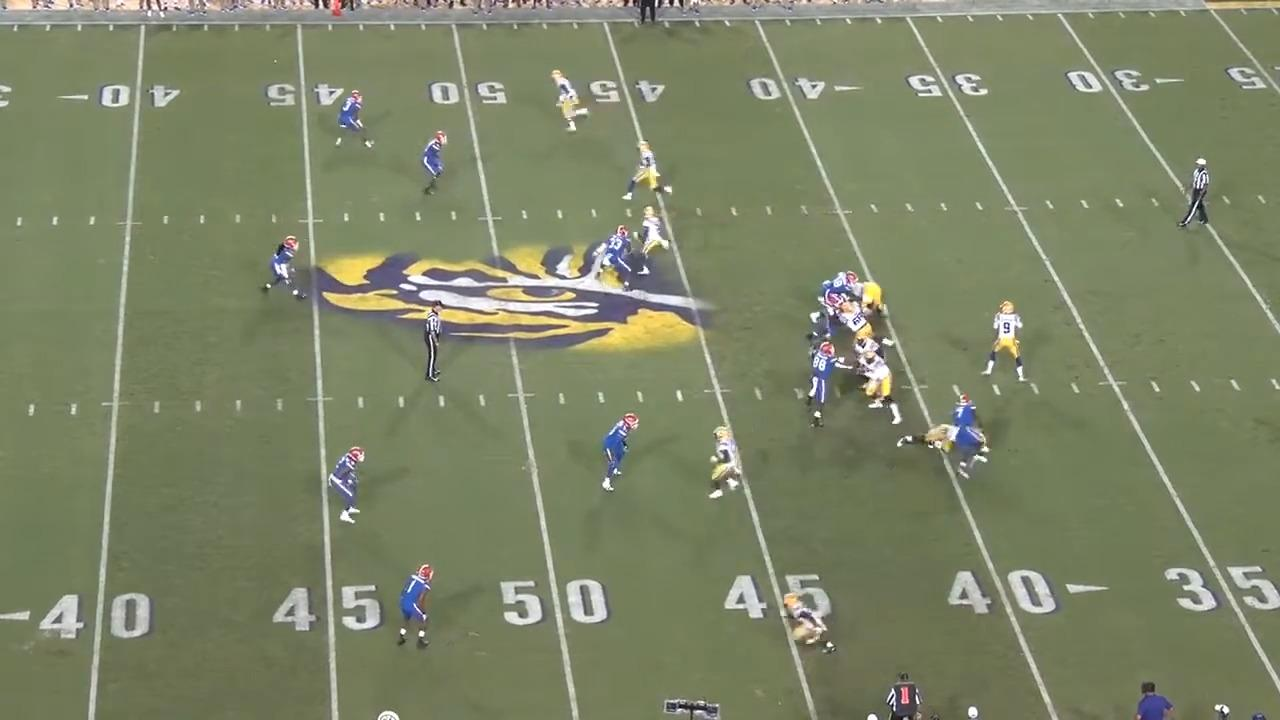defense: (395, 564, 439, 657), (805, 339, 850, 429), (948, 392, 993, 481), (596, 410, 642, 494), (326, 443, 370, 527), (264, 233, 306, 303), (594, 223, 635, 291), (334, 90, 374, 151), (808, 289, 846, 347), (421, 130, 453, 198), (821, 269, 856, 301)
oline: (859, 351, 908, 425), (895, 413, 961, 454), (840, 302, 896, 348), (847, 280, 890, 321), (852, 335, 887, 360)
qb: (978, 298, 1031, 385)
ref: (1178, 154, 1217, 233), (417, 301, 452, 387), (886, 671, 929, 719), (632, 0, 664, 28)
skill: (776, 593, 838, 662), (620, 138, 673, 205), (704, 426, 747, 507), (635, 207, 675, 279), (549, 68, 591, 132)
